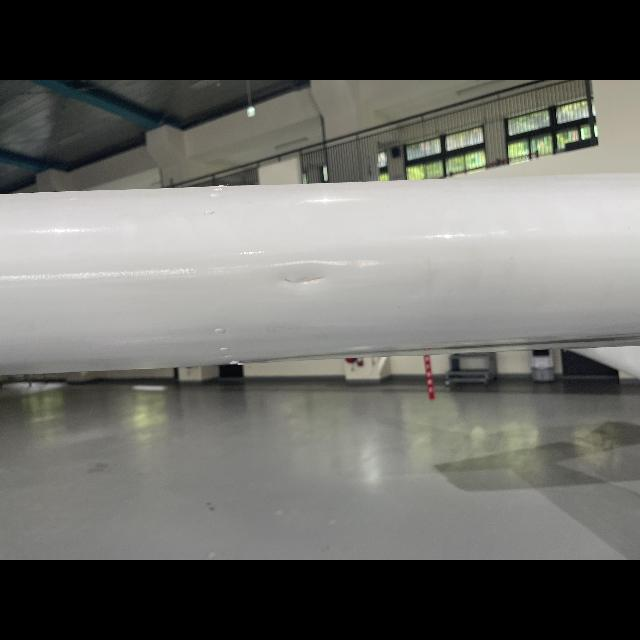dent: (263, 259, 349, 297)
